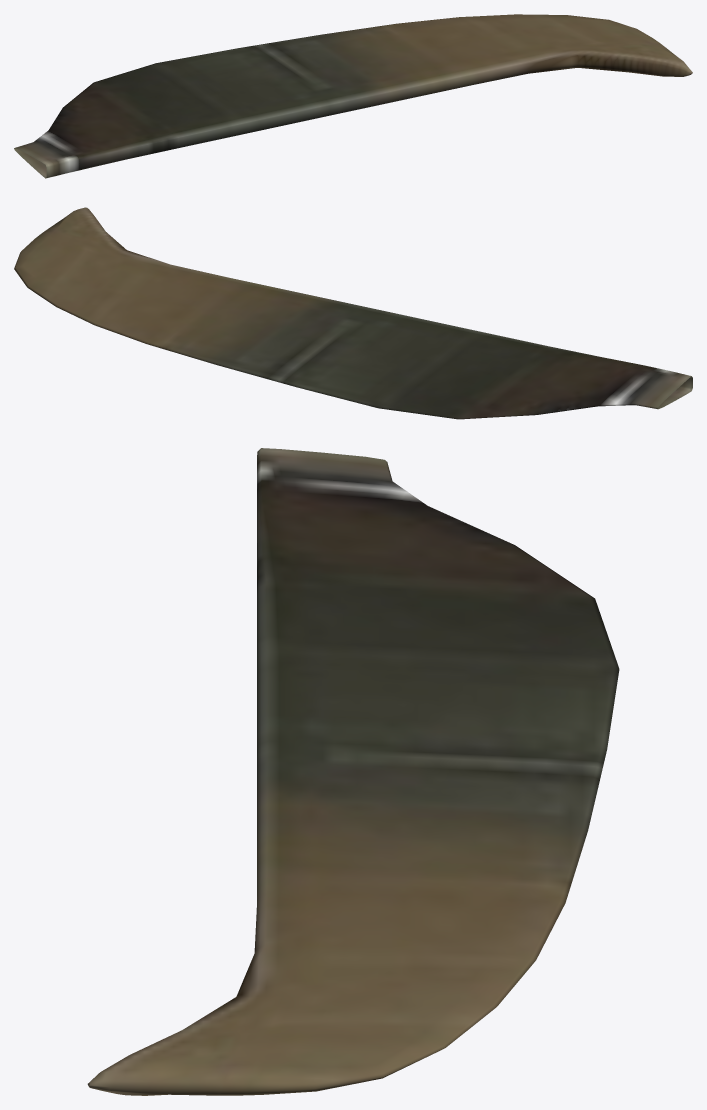
The model's file is backwing_left.obj.
The picture shows the model from 3 angles, top to bottom: view 1: azimuth 30°, elevation 25°; view 2: azimuth 150°, elevation 25°; view 3: azimuth 270°, elevation 25°; orthographic projection. The views are drawn at different scales.
Visible parts, largest first — view 1: SF_Backwing.002_Plane.014; view 2: SF_Backwing.002_Plane.014; view 3: SF_Backwing.002_Plane.014.
Boxes of the visible parts, x1,y1,x2,y2 form: SF_Backwing.002_Plane.014: (14,14,692,178); SF_Backwing.002_Plane.014: (14,207,692,419); SF_Backwing.002_Plane.014: (87,448,619,1095).
Bounding box in the file's own units: 1.25 × 0.0608 × 0.4719.
1 material, 1 textured.
